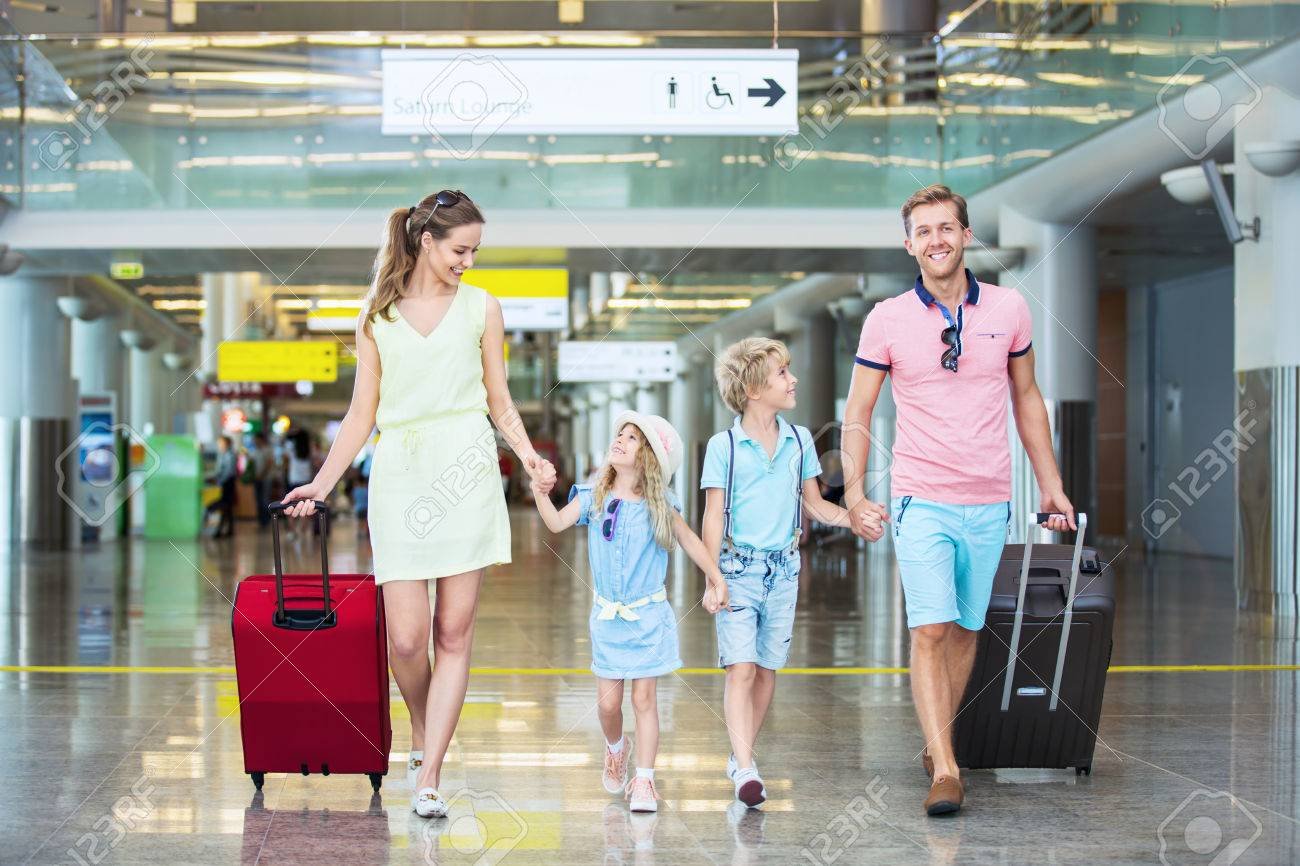luggage: (220, 497, 402, 801), (942, 499, 1122, 788)
people: (274, 178, 560, 828), (833, 178, 1088, 835), (685, 331, 869, 827), (530, 409, 728, 821)
